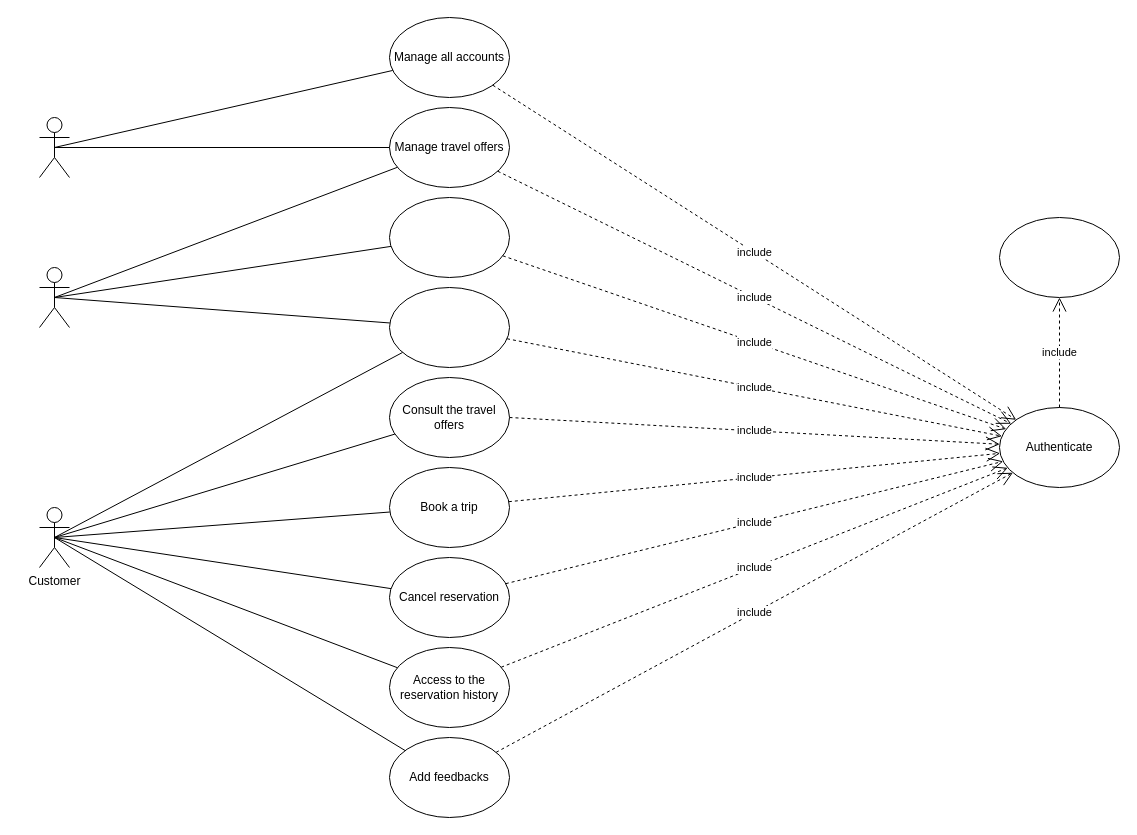
Image size: 1137x835. Some labels were removed from this diagram. Each missing label, with the centre of its shape:
Admin: the point at 54,147
Create an account: the point at 1059,257
Manage his account: the point at 449,327
Manage reservations: the point at 449,237
Travel agency: the point at 54,297
